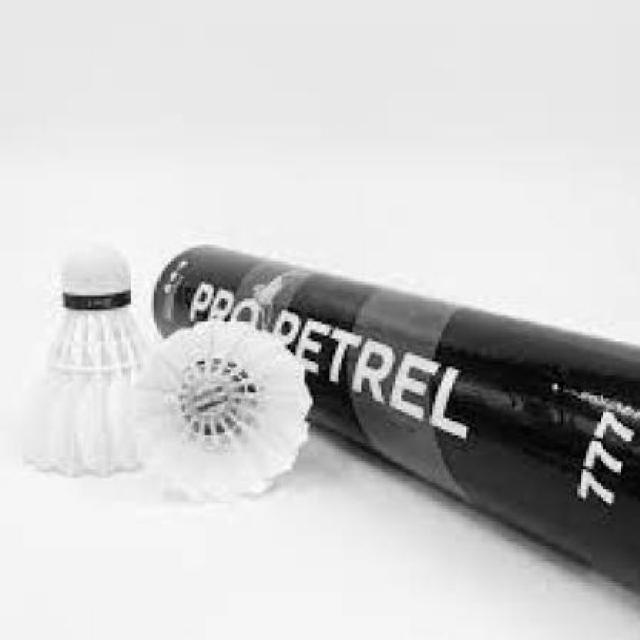Shuttlecock: (133, 317, 308, 497)
